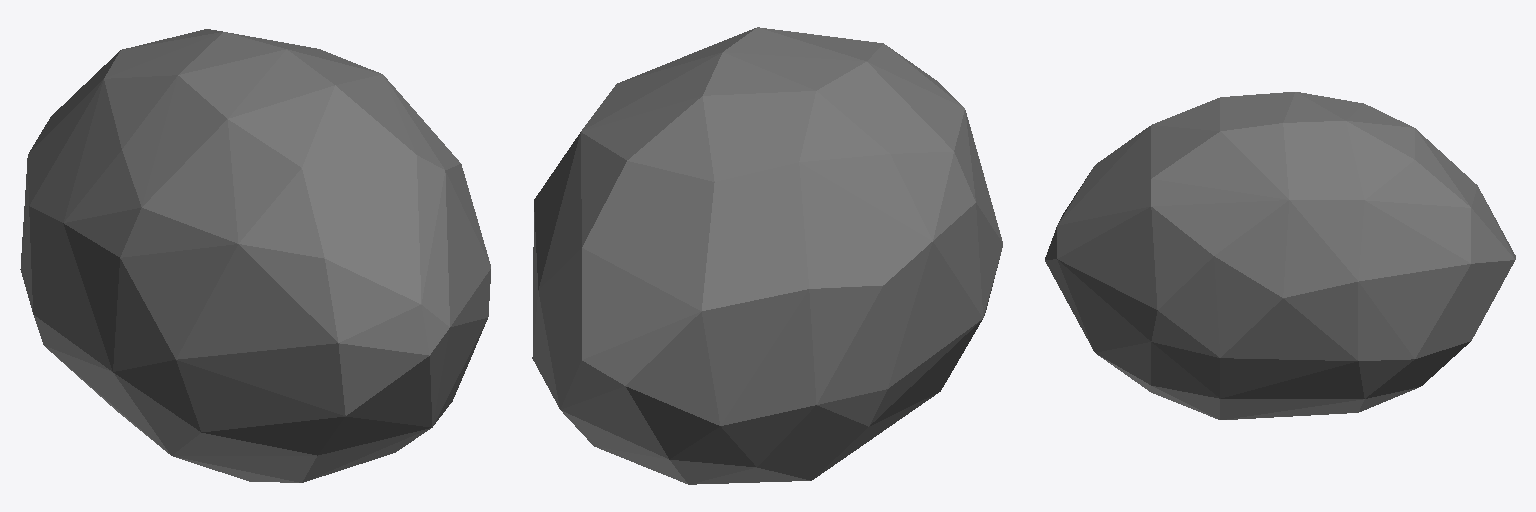
URDF robot description (lemon_000):
<?xml version="1.0" ?>
<robot name="lemon_000">
  <material name="color">
    <color rgba=".5 .5 .5 1"/>
  </material>

  <link name="base_link">
    <contact>
      <lateral_friction value="1.0"/>
      <rolling_friction value="0.001"/>
      <spinning_friction value="0.001"/>
      <inertia_scaling value="1.0"/>
    </contact>
    <inertial>
      <origin rpy="0 0 0" xyz="7.97667e-07 1.85905e-05 3.21444e-07"/>
       <mass value="0.1"/>
       <inertia ixx="1" ixy="0" ixz="0" iyy="1" iyz="0" izz="1"/>
    </inertial>

    <visual>
      <origin rpy="0 0 0" xyz="0 0 0"/>
      <geometry>
        <mesh filename="lemon_000_vhacd_0_of_1.obj" scale="1 1 1"/>
      </geometry>
      <material name="color"/>
    </visual>

    <collision>
      <origin rpy="0 0 0" xyz="0 0 0"/>
      <geometry>
        <mesh filename="lemon_000_vhacd_0_of_1.obj" scale="1 1 1"/>
      </geometry>
    </collision>

  </link>
</robot>

--- Facts derived from the render (not from the file) ---
3 views of the same robot in one strip: view 1: azimuth 30°, elevation 25°; view 2: azimuth 150°, elevation 25°; view 3: azimuth 270°, elevation 25° (orthographic).
Model lemon_000 with 1 links and 0 joints (none), rooted at base_link, posed all joints at 0.
Visible links, largest first — view 1: base_link; view 2: base_link; view 3: base_link.
Link boxes in pixels (left/top/right/bottom): base_link: left=20, top=29, right=490, bottom=482; base_link: left=532, top=27, right=1002, bottom=484; base_link: left=1045, top=92, right=1515, bottom=419.
Bounding box of the posed robot: 0.0475 × 0.0699 × 0.0475 m (x, y, z).
Meshes: 1 distinct files referenced, 1 mesh visuals loaded (1 OBJ).